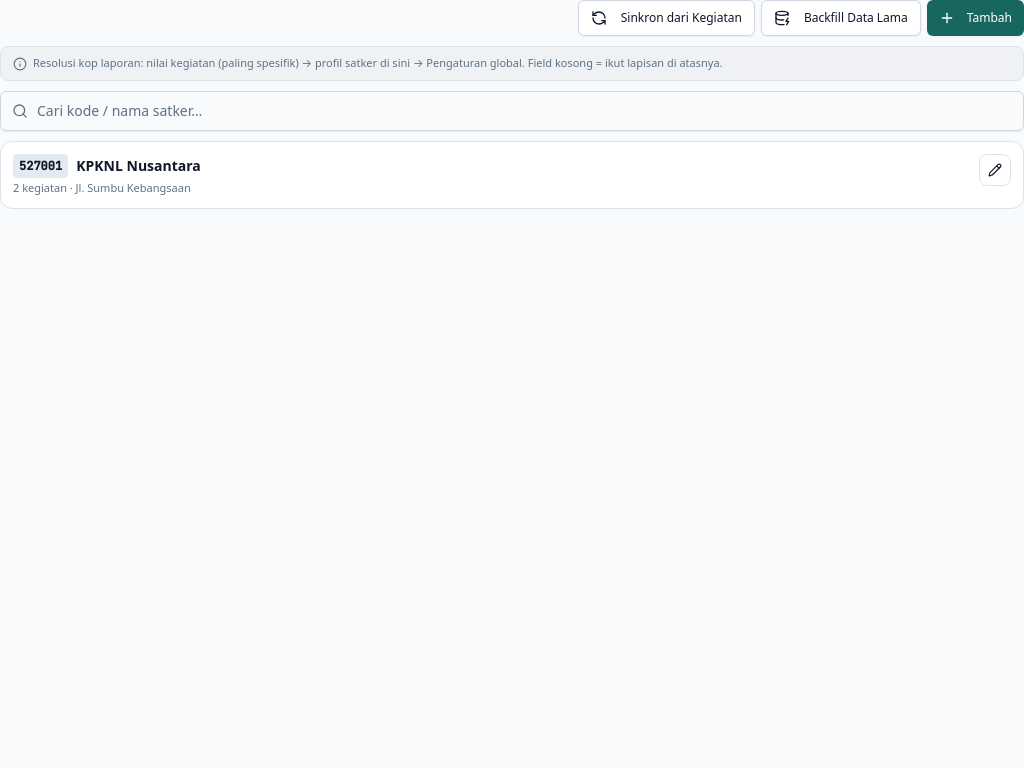
Test: pemilih tampil satu per slot yang dilayani server
Click the button with test id "satker-edit-527001": (995, 170) [979, 154, 1011, 186]
(page scrolled)
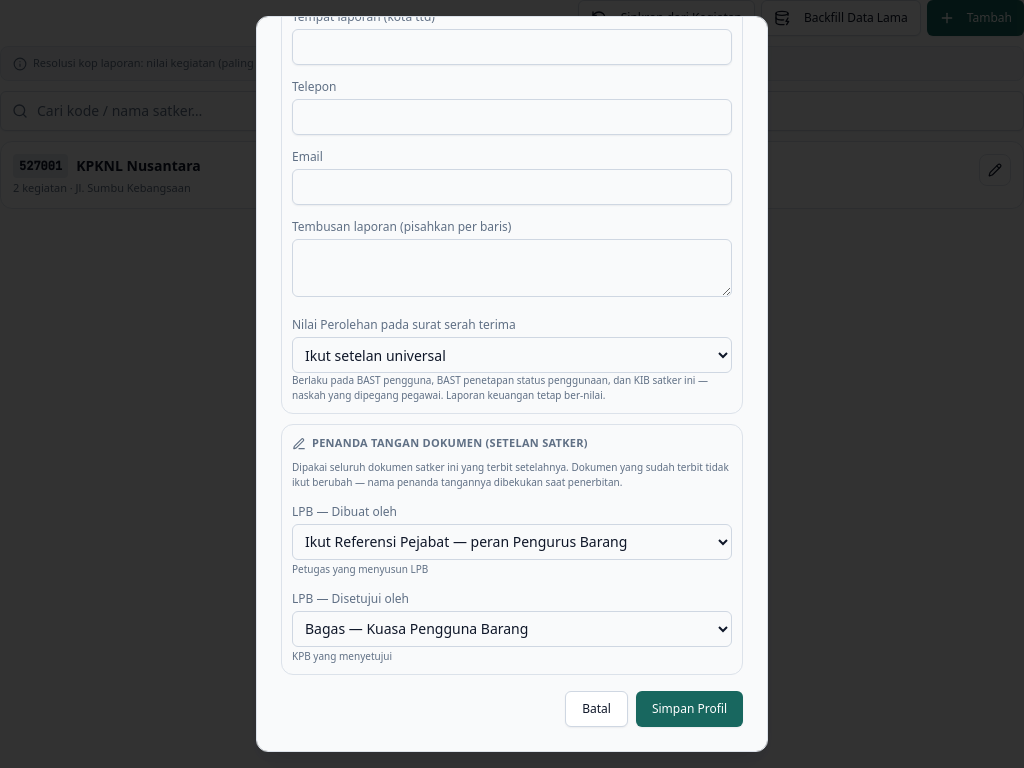
Now the dropdown with test id "satker-ttd-lpb_dibuat" is shown, box [292, 524, 732, 560]
Now the dropdown with test id "satker-ttd-lpb_disetujui" is shown, box [292, 611, 732, 647]
